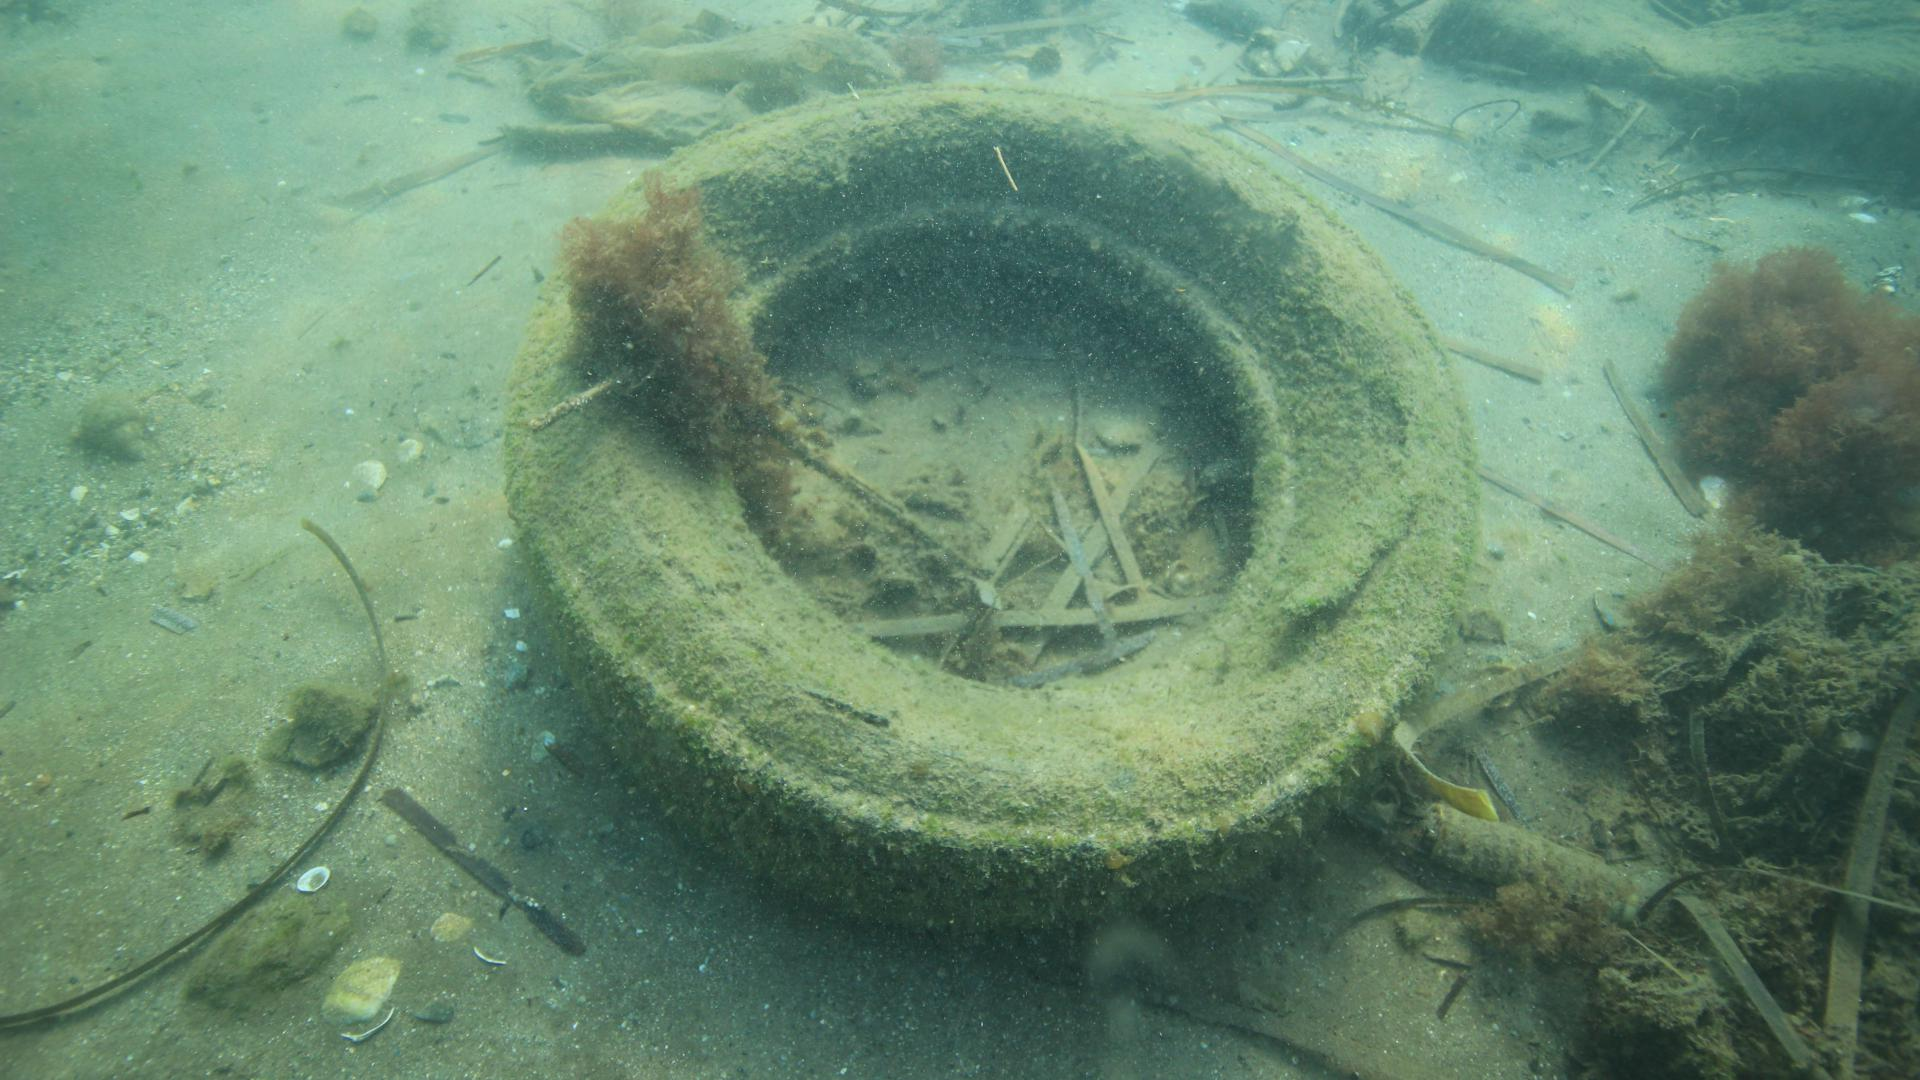tire: (504, 84, 1477, 934)
